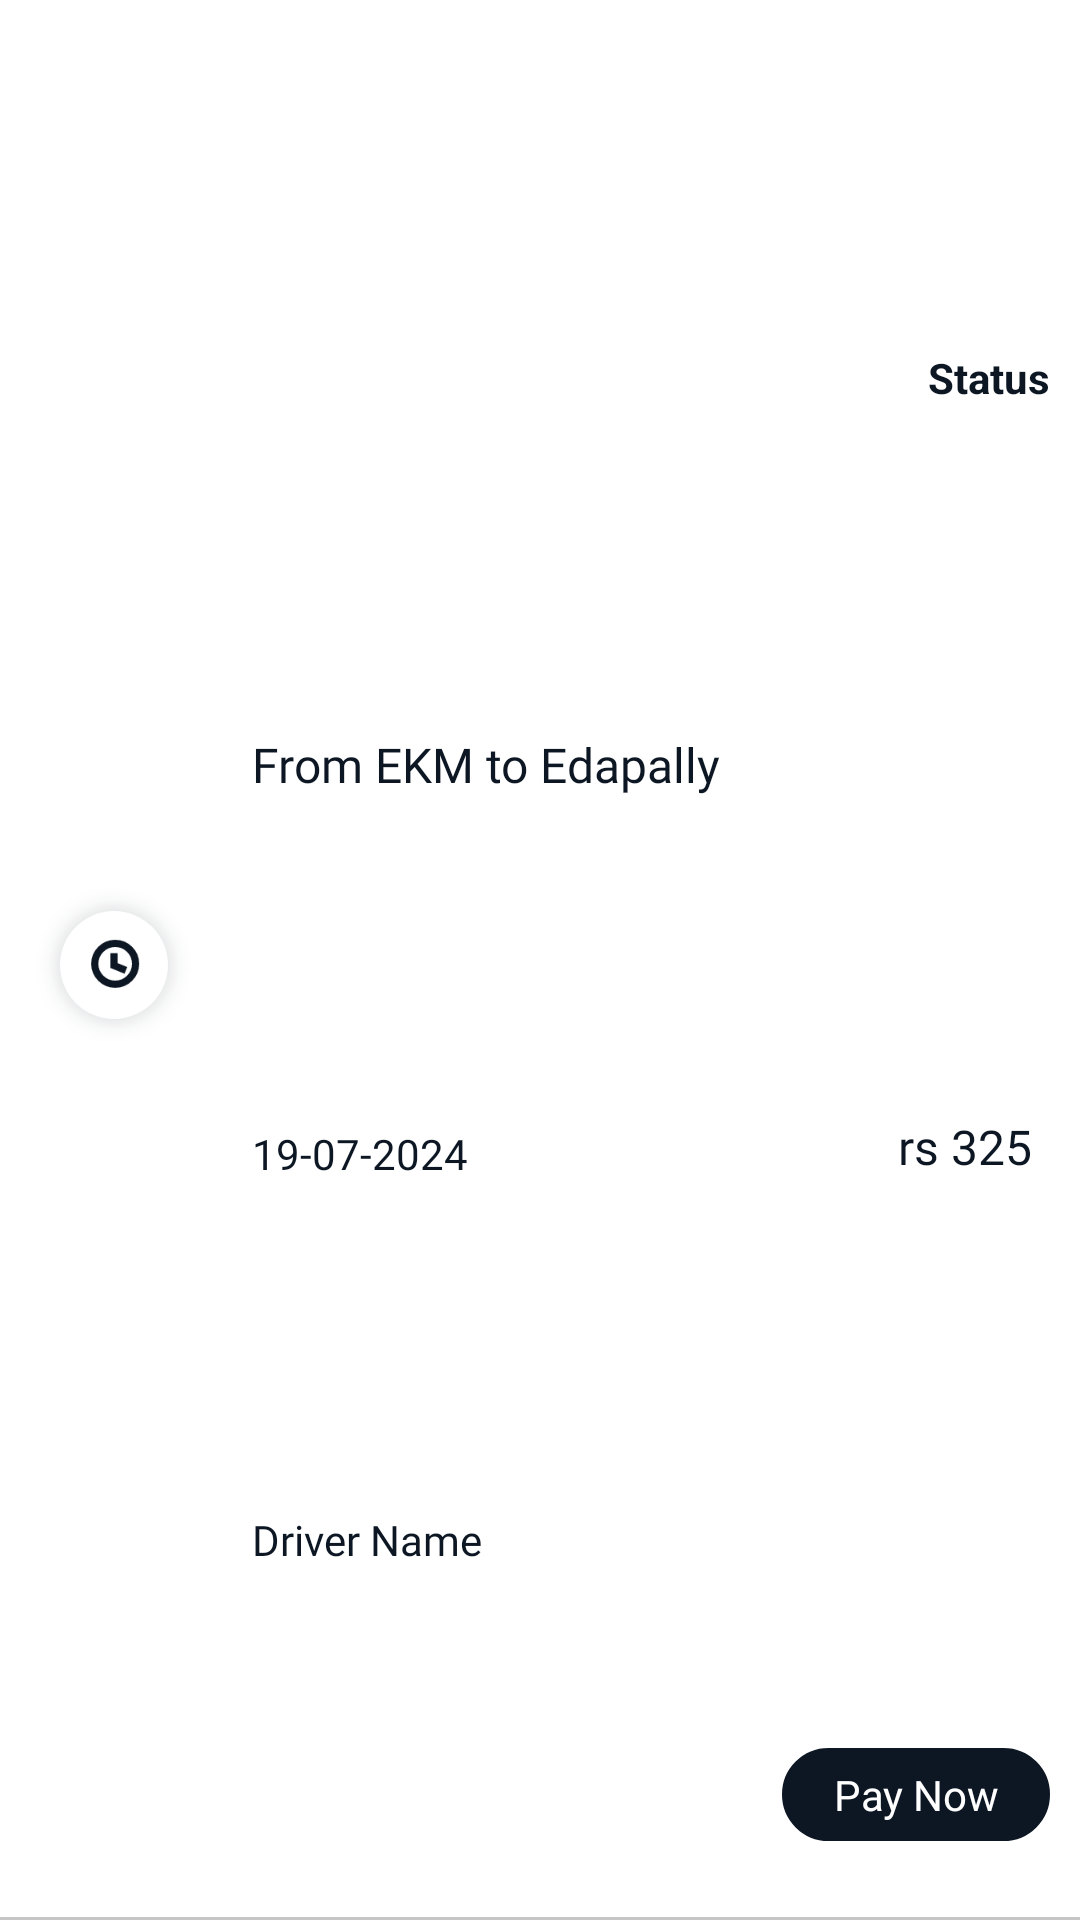

Screen size 1080w x 1920h. Icon name, then its center in pixels as point (x, y):
timer circle: point (115, 963)
